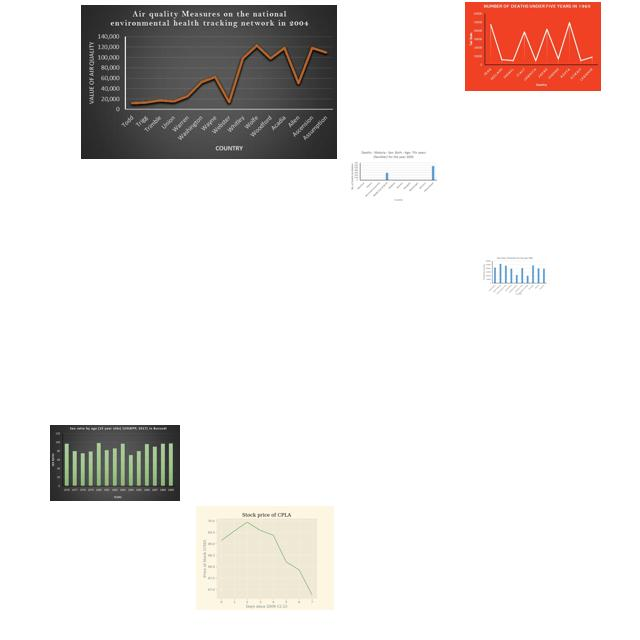Graph: (81, 5, 337, 159), (196, 506, 334, 610), (465, 2, 601, 91), (50, 425, 180, 501), (349, 150, 439, 204), (482, 256, 548, 295)
